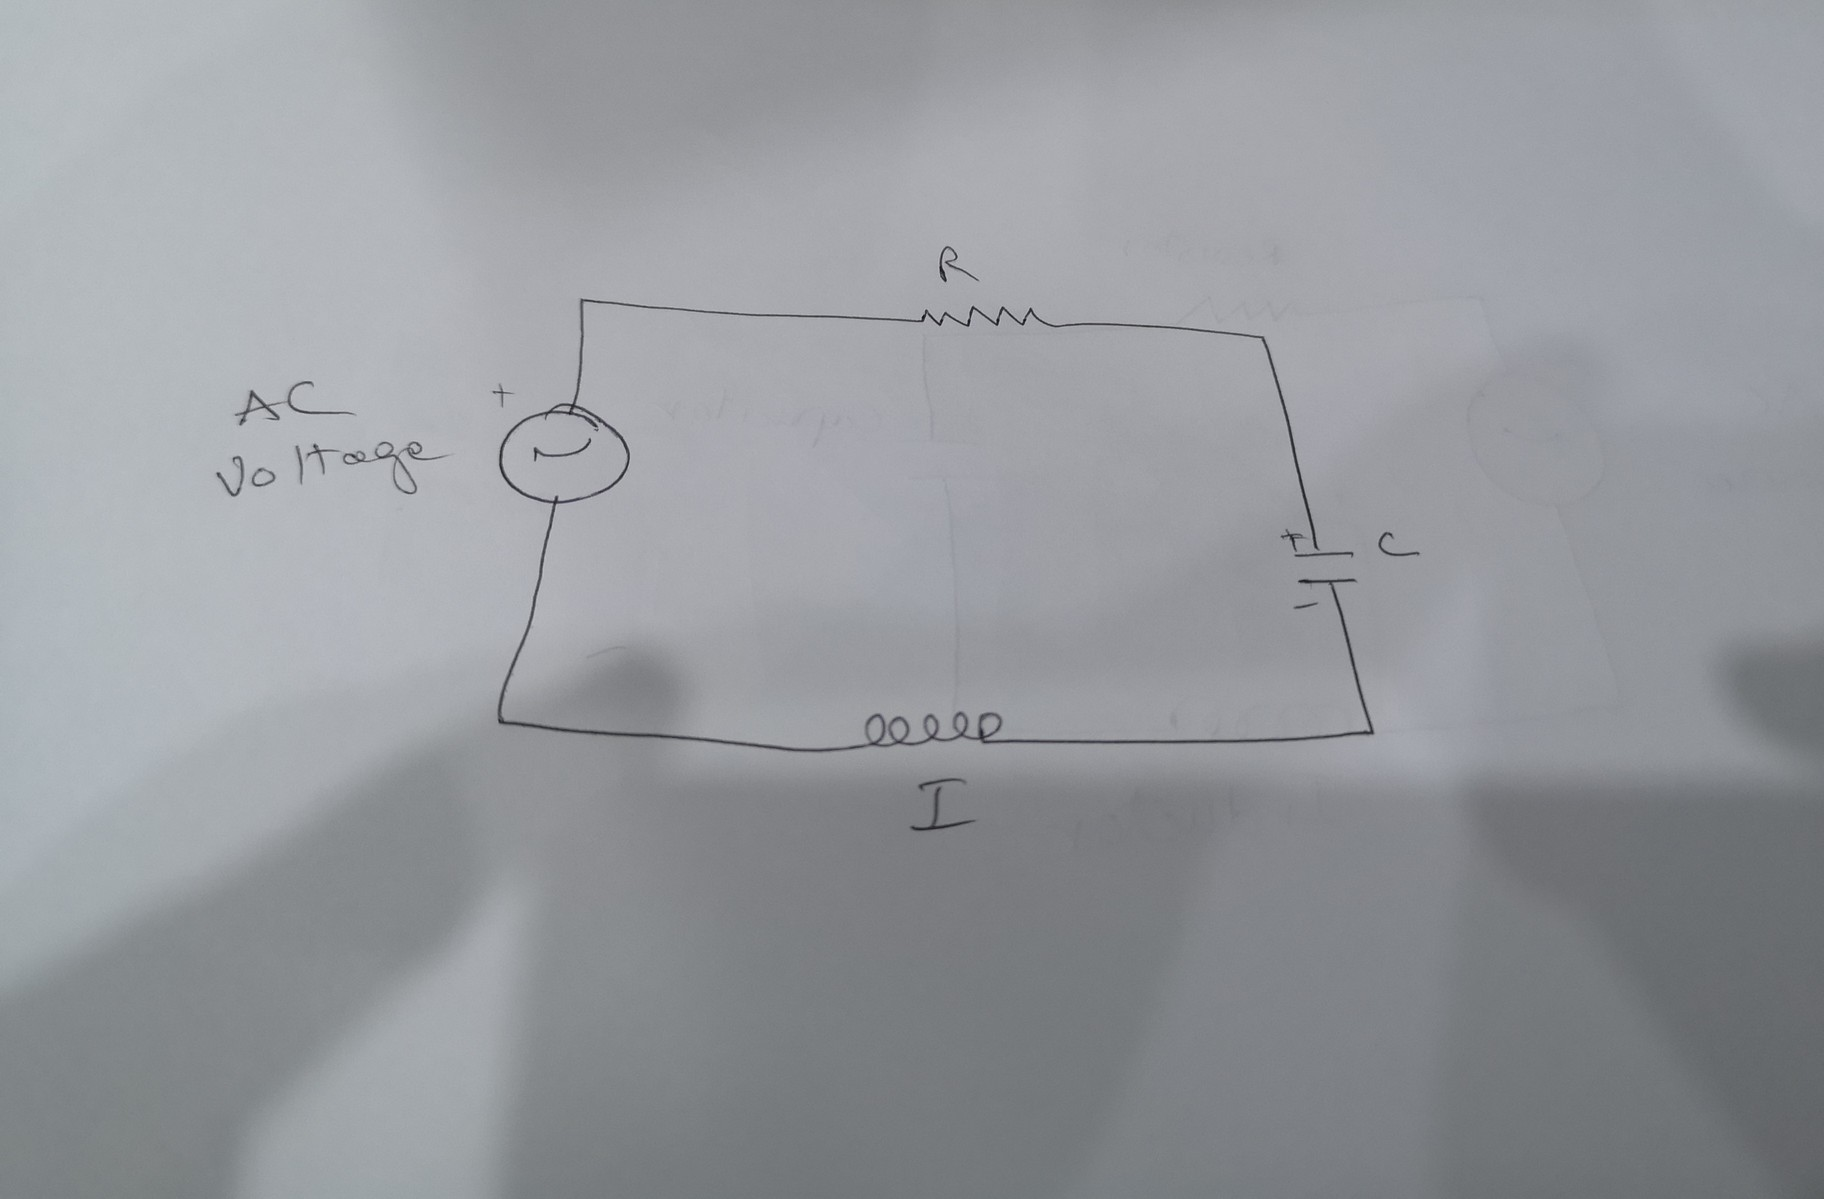capacitor.polarized: (1277, 525, 1366, 616)
inductor: (859, 705, 1006, 756)
junction: (1249, 324, 1277, 353), (571, 289, 596, 312), (1360, 719, 1382, 741), (488, 708, 511, 731)
resistor: (911, 302, 1059, 335)
text: (211, 434, 455, 503), (230, 376, 363, 431), (907, 777, 985, 834), (931, 238, 981, 286), (1374, 529, 1423, 563)
voltage.dc: (488, 380, 633, 510)
